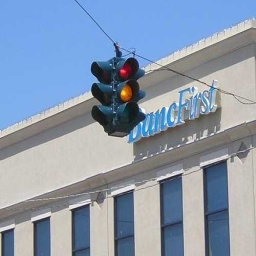traffic light: (90, 55, 145, 137), (90, 61, 113, 126)
